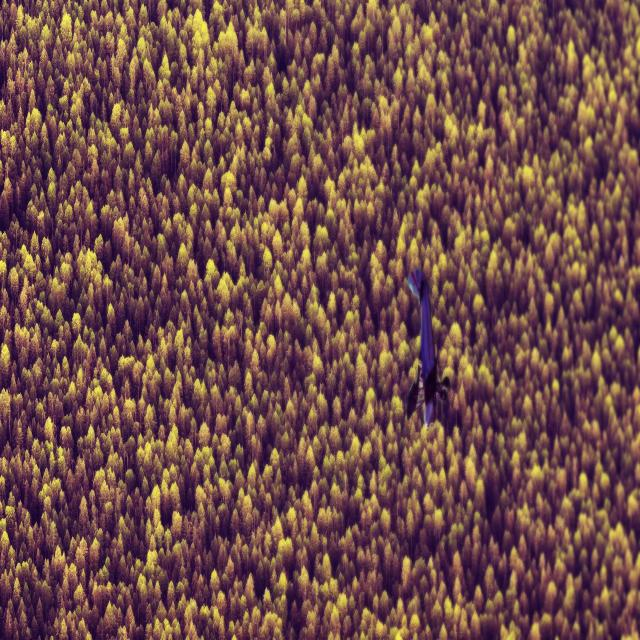airplane: (405, 267, 450, 428)
